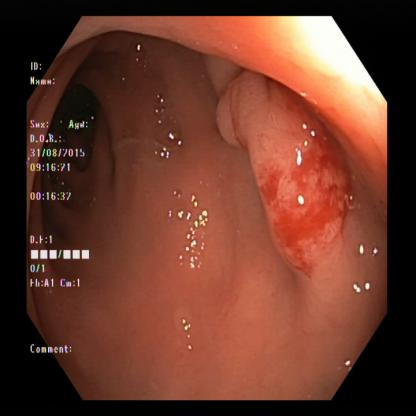Labels: (25, 54, 87, 356)
Polyps: (230, 62, 344, 260)
